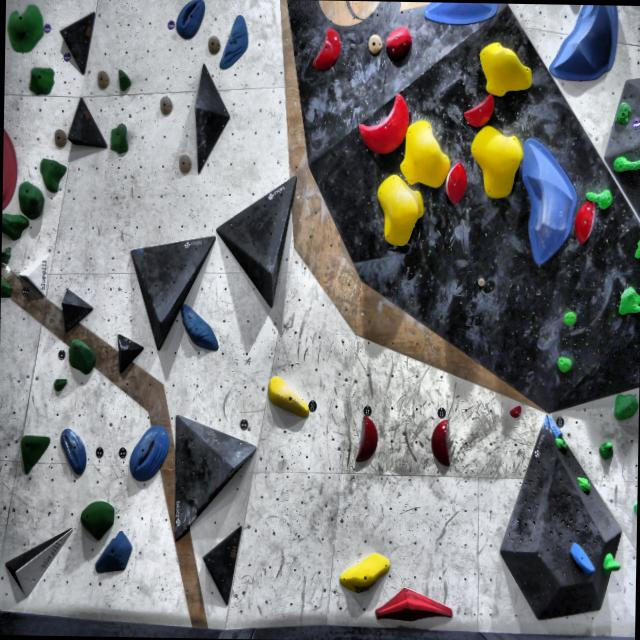Hold: (520, 132, 578, 268), (548, 4, 619, 83), (468, 125, 522, 202), (368, 582, 454, 628), (398, 113, 448, 190), (372, 174, 423, 248), (356, 96, 410, 153), (478, 41, 530, 92), (128, 426, 170, 482), (176, 302, 222, 352), (338, 551, 390, 594), (416, 1, 504, 26), (95, 528, 134, 582), (6, 0, 43, 56), (220, 10, 252, 70), (266, 376, 308, 417), (309, 22, 342, 74), (171, 0, 208, 43), (16, 180, 53, 220), (77, 501, 117, 538), (56, 424, 88, 470), (17, 432, 51, 474), (355, 413, 381, 466), (33, 154, 69, 190), (2, 126, 17, 210), (23, 62, 56, 96), (430, 419, 452, 470), (66, 340, 98, 372), (464, 90, 494, 124), (444, 160, 466, 206), (568, 539, 596, 575), (106, 121, 134, 155), (383, 27, 412, 59), (618, 284, 640, 326), (575, 200, 597, 240), (610, 388, 639, 418), (2, 218, 34, 245), (584, 184, 612, 209), (611, 152, 640, 175), (611, 96, 631, 126), (113, 66, 133, 95), (602, 550, 622, 574), (540, 412, 560, 434), (574, 472, 594, 493), (554, 351, 573, 370), (47, 375, 70, 390), (599, 442, 615, 462), (1, 241, 12, 263), (506, 402, 521, 418), (555, 434, 568, 452), (631, 233, 640, 259), (563, 310, 576, 326), (1, 280, 12, 298), (2, 264, 12, 280), (134, 244, 143, 258), (633, 497, 637, 518)
